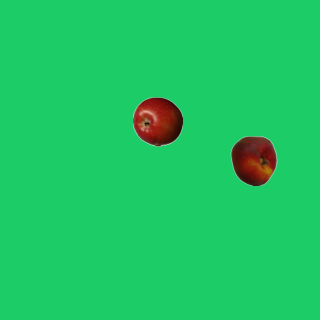Apple Braeburn: (132, 96, 182, 146)
Nectarine Flat: (228, 135, 278, 185)
